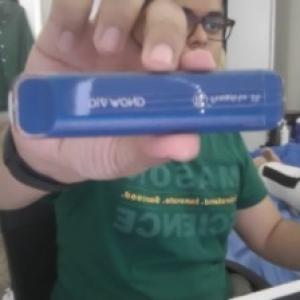Diamond-E-Ciggirate: (3, 60, 292, 140)
